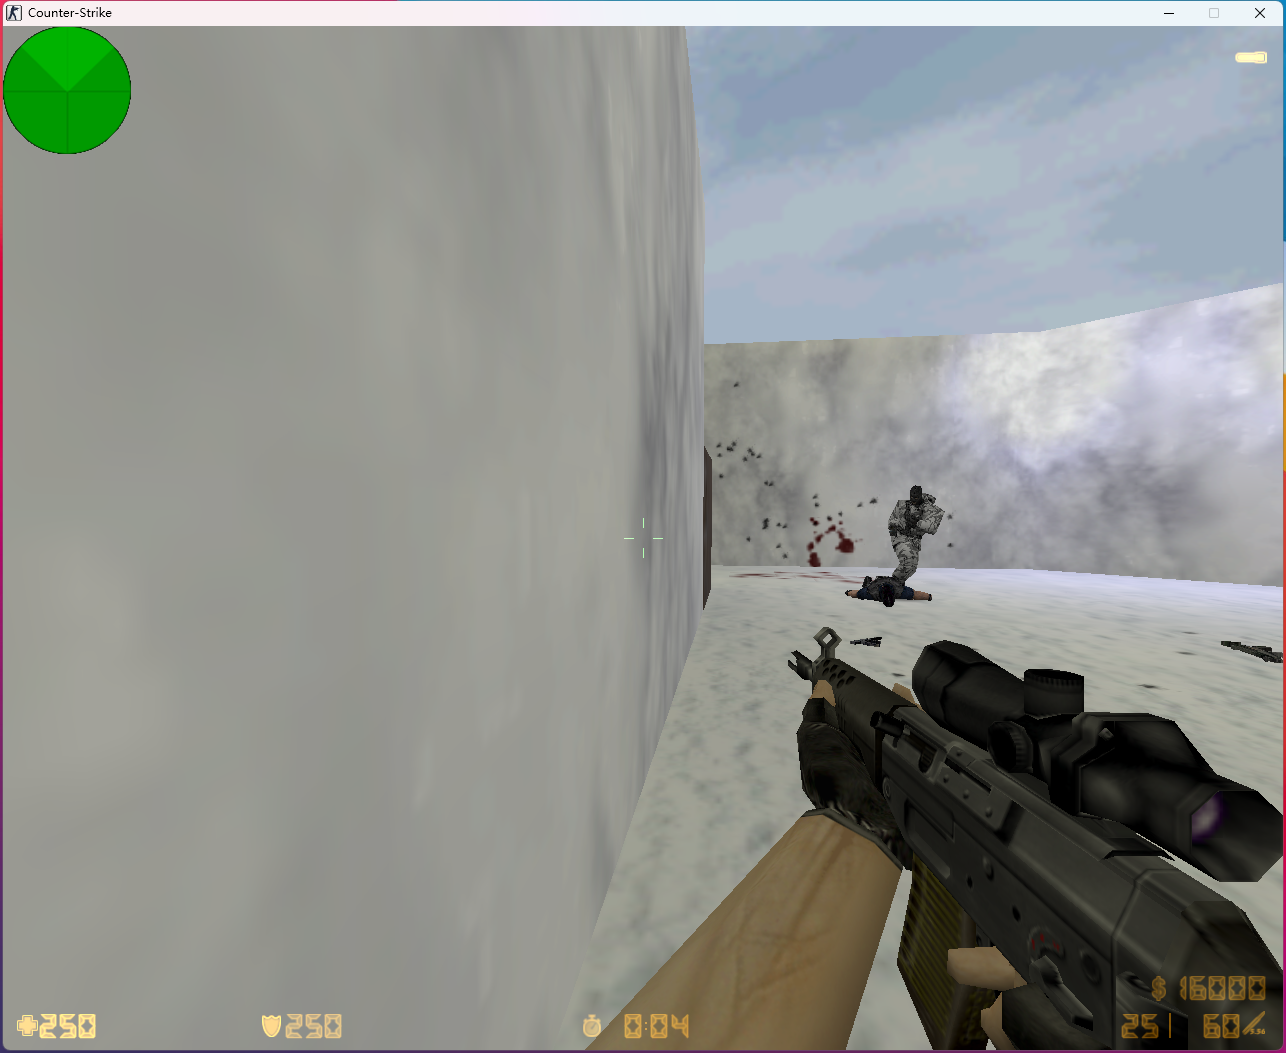T: (887, 485, 947, 594)
dead: (846, 573, 934, 609)
weapon: (1217, 636, 1286, 666), (848, 634, 888, 649)
